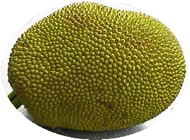jackfruit: (8, 1, 187, 135)
